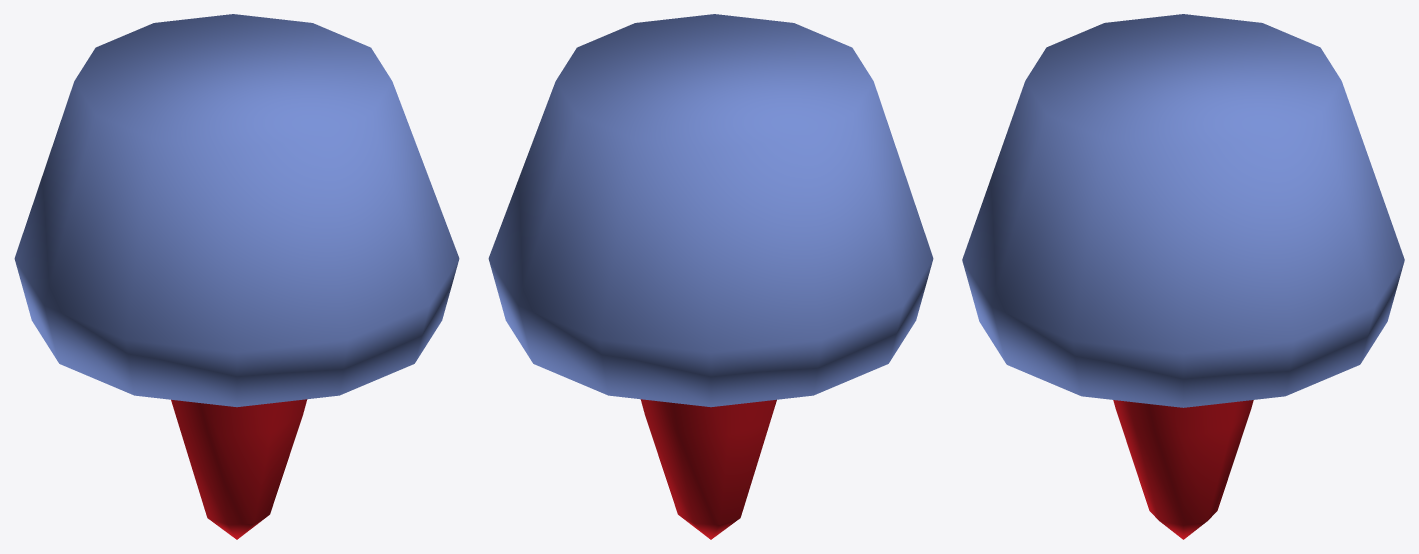
The model's file is Pata_cangrejo.obj.
3 views of the same model, side by side, from view 1: azimuth 30°, elevation 25°; view 2: azimuth 150°, elevation 25°; view 3: azimuth 270°, elevation 25° (orthographic).
Parts seen in each view (by area): view 1: Right_leg; view 2: Right_leg; view 3: Right_leg.
Part boxes in pixels (x1=…): Right_leg: x1=14, y1=14, x2=459, y2=539; Right_leg: x1=488, y1=14, x2=933, y2=539; Right_leg: x1=962, y1=14, x2=1404, y2=539.
Bounding box in the file's own units: 55.4 × 63.14 × 55.4.
Materials: 2 (2 with a texture image).
